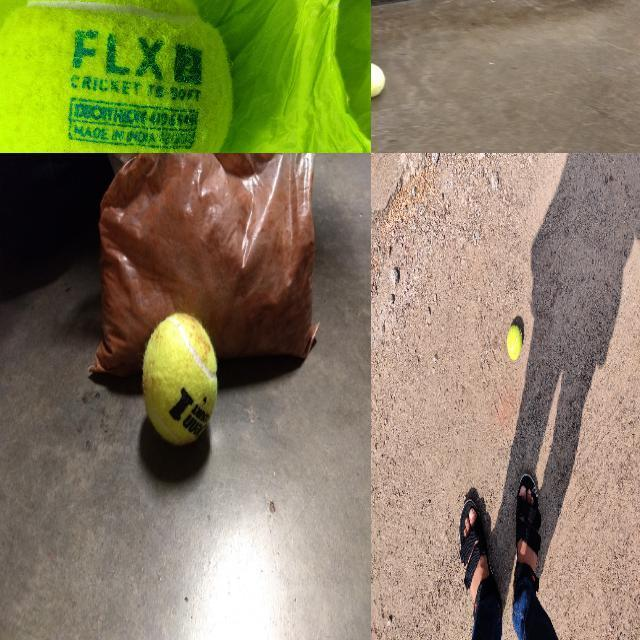tennis-ball: (0, 0, 235, 152), (141, 312, 217, 445), (371, 62, 386, 99), (507, 324, 522, 359)
